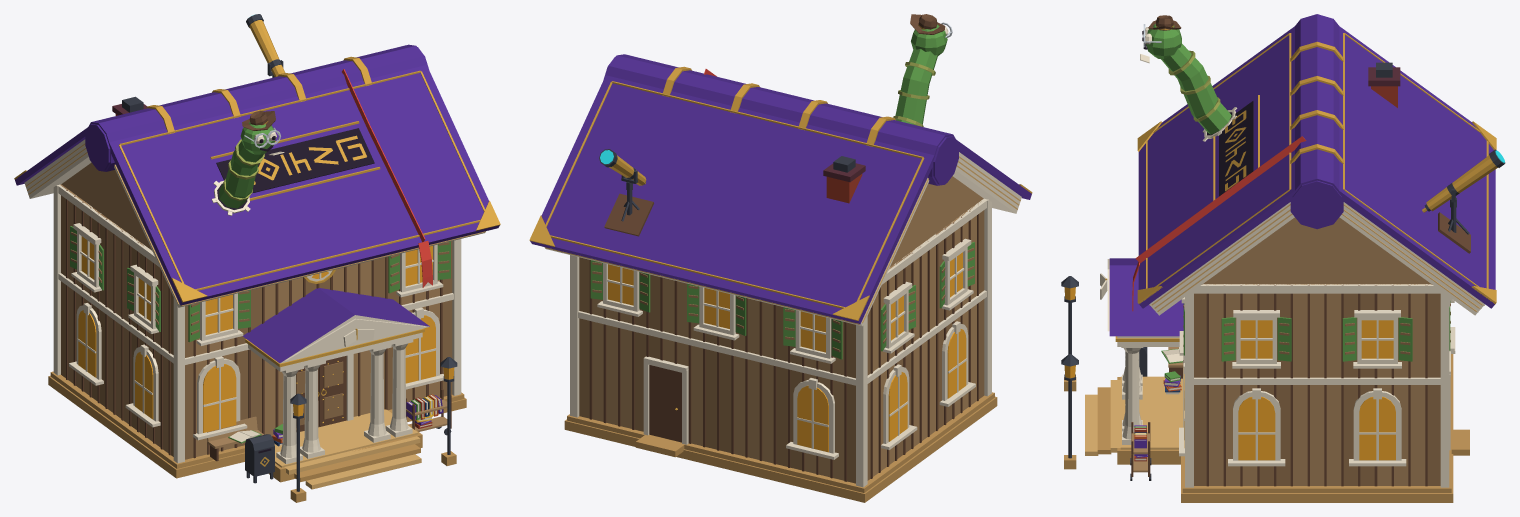
The model's file is Bldg_Library.obj.
3 renders of one model, left to right at view 1: azimuth 30°, elevation 25°; view 2: azimuth 150°, elevation 25°; view 3: azimuth 270°, elevation 25°, orthographic. The views are drawn at different scales.
Parts seen in each view (by area): view 1: Bldg_Library_Body, Bldg_Library_Bookworm, Bldg_Library_Door_R, Bldg_Library_Telescope; view 2: Bldg_Library_Body, Bldg_Library_Bookworm, Bldg_Library_Telescope; view 3: Bldg_Library_Body, Bldg_Library_Bookworm, Bldg_Library_Telescope.
Boxes of the visible parts, x1,y1,x2,y2 form: Bldg_Library_Body: (14, 44, 500, 502); Bldg_Library_Bookworm: (219, 110, 284, 208); Bldg_Library_Door_R: (319, 356, 346, 426); Bldg_Library_Telescope: (246, 14, 285, 77); Bldg_Library_Body: (529, 54, 1032, 502); Bldg_Library_Bookworm: (893, 14, 952, 126); Bldg_Library_Telescope: (599, 149, 646, 190); Bldg_Library_Body: (1061, 14, 1496, 502); Bldg_Library_Bookworm: (1140, 15, 1231, 134); Bldg_Library_Telescope: (1422, 149, 1505, 212).
Size of the model in its own units: 11.72 by 12.32 by 13.21.
